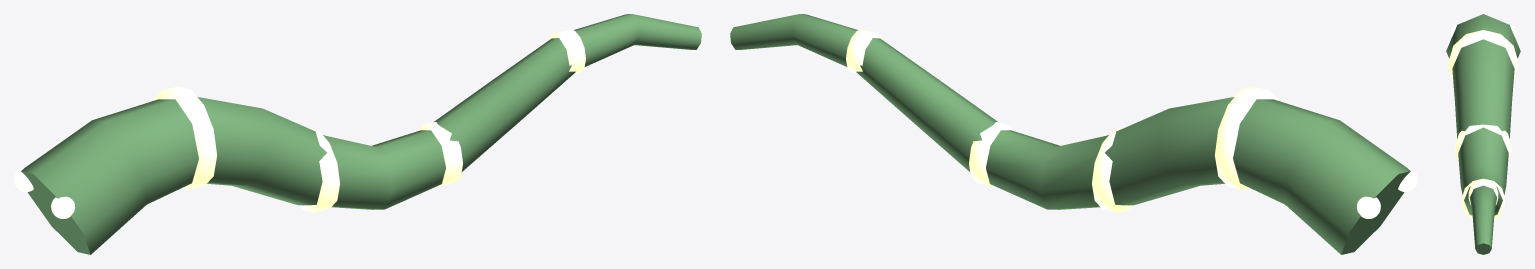
The model's file is eel.glb.
The picture shows the model from 3 angles, left to right: view 1: azimuth 30°, elevation 25°; view 2: azimuth 150°, elevation 25°; view 3: azimuth 270°, elevation 25°; orthographic projection. The views are drawn at different scales.
Parts seen in each view (by area): view 1: eel; view 2: eel; view 3: eel.
Boxes of the visible parts, x1,y1,x2,y2 form: eel: (14, 14, 701, 254); eel: (730, 14, 1417, 254); eel: (1446, 14, 1520, 254).
Size of the model in its own units: 1.25 by 0.2948 by 0.18.
